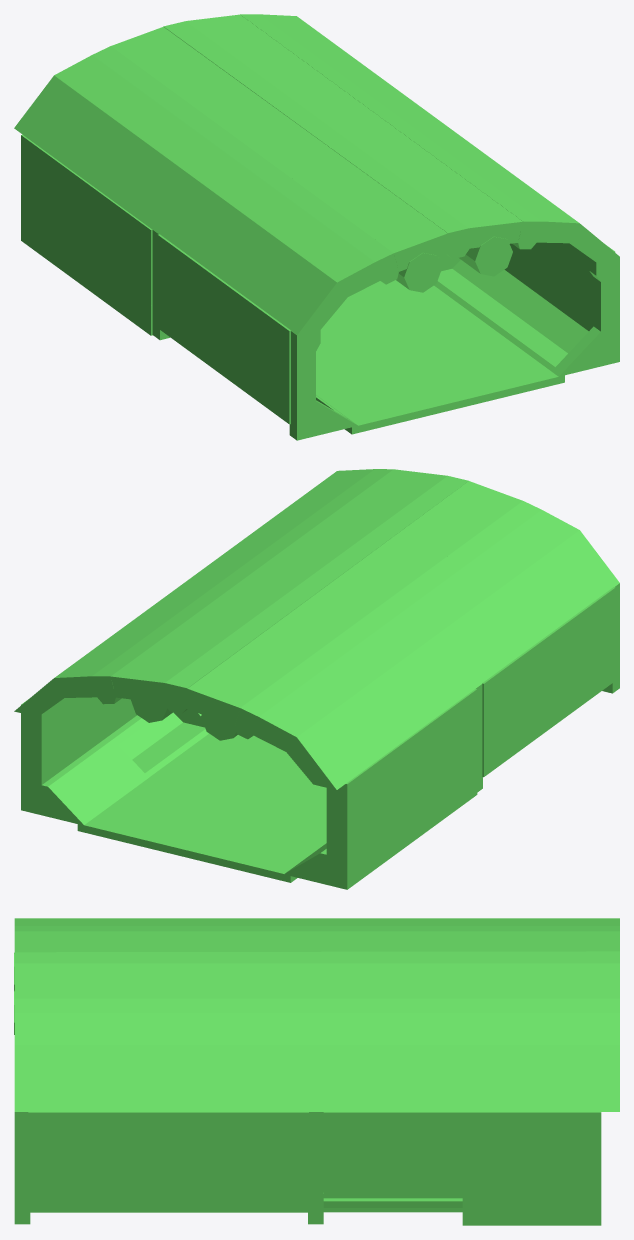
The model's file is env_minidungeon_straight03_col.fbx.
3 renders of one model, top to bottom at view 1: azimuth 30°, elevation 25°; view 2: azimuth 150°, elevation 25°; view 3: azimuth 270°, elevation 25°, orthographic. The views are drawn at different scales.
Visible parts, largest first — view 1: Cube.041, Cube.014, Cube.040, Cube.045, Cube.032, Cube.097, Cube.104, Cube.038, Cube.048, Cube.049, Cube.090, Cube.039 (+13 smaller); view 2: Cube.041, Cube.014, Cube.040, Cube.045, Cube.032, Cube.097, Cube.104, Cube.038, Cube.048, Cube.049, Cube.109, Cube.101 (+8 smaller); view 3: Cube.037, Cube.090, Cube.109, Cube.032, Cube.038, Cube.040, Cube.039, Cube.049, Cube.045, Cube.144, Cube.048, Cube.138 (+6 smaller).
Part boxes in pixels (x1,y1,x2,y2): Cube.041: (14,75,347,335); Cube.014: (316,280,564,434); Cube.040: (111,27,447,271); Cube.045: (54,55,379,296); Cube.032: (186,14,522,248); Cube.097: (157,234,290,424); Cube.104: (21,134,152,305); Cube.038: (259,14,579,243); Cube.048: (92,46,398,284); Cube.049: (163,21,469,258); Cube.090: (504,242,615,330); Cube.039: (240,14,541,249); Cube.041: (286,530,619,790); Cube.014: (77,733,326,882); Cube.040: (186,481,522,726); Cube.045: (254,510,579,751); Cube.032: (111,469,447,703); Cube.097: (482,587,615,777); Cube.104: (326,689,477,859); Cube.038: (54,469,374,697); Cube.048: (235,501,541,739); Cube.049: (164,476,468,713); Cube.109: (21,697,136,784); Cube.101: (285,765,477,889); Cube.037: (14,1045,619,1111); Cube.090: (28,1112,308,1212); Cube.109: (323,1112,601,1193); Cube.032: (14,963,619,998); Cube.038: (14,1013,619,1044); Cube.040: (14,931,619,952); Cube.039: (14,998,619,1013); Cube.049: (14,951,619,963); Cube.045: (14,918,619,925); Cube.144: (462,1198,601,1225); Cube.048: (14,926,619,931); Cube.138: (323,1201,462,1212).
Bounding box in the file's own units: 176 × 91.62 × 264.
